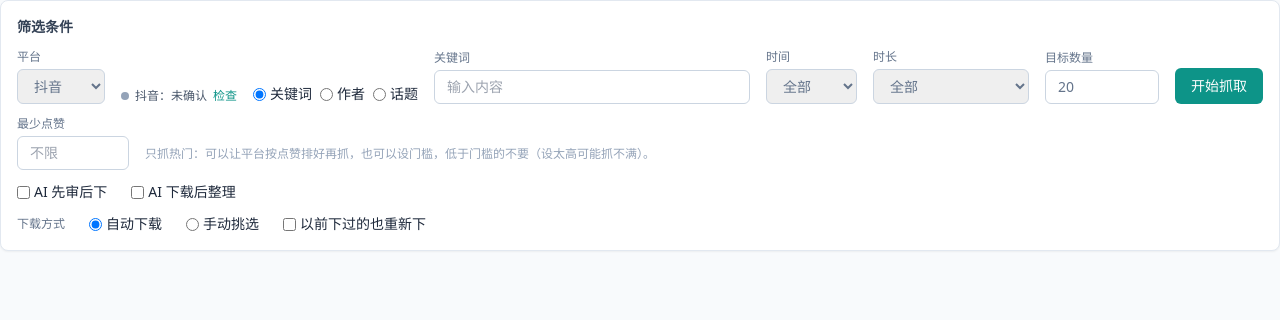
Test: FilterForm 详情取数模式（仅小红书） › 小红书显示稳妥/快速单选，默认稳妥，并说明快速模式更像程序访问
Select "小红书" in the dropdown labelled "平台". click: {"x": 61, "y": 86}
box: [17,69,105,104]
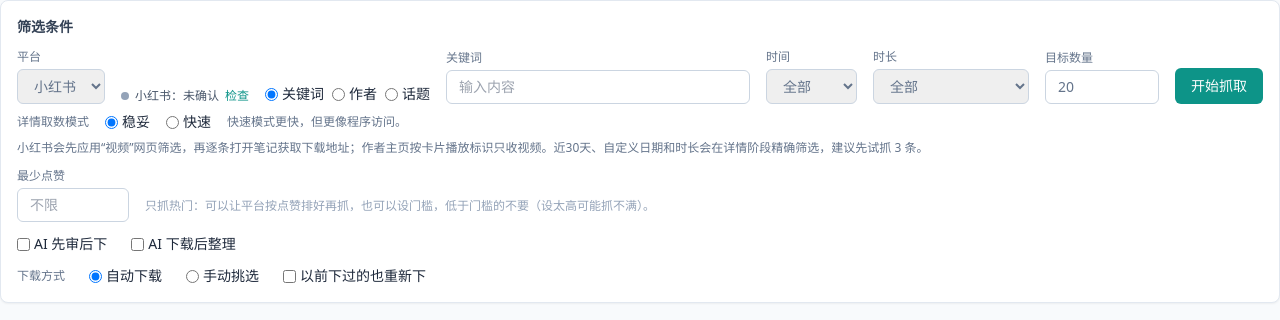
Check: the radio button labelled "稳妥" is checked, box [105,116,118,128]
Check: the radio button labelled "快速" is not checked, box [166,116,179,128]
Check: the text "快速模式更快，但更像程序访问。" is shown, box [227,114,407,130]
